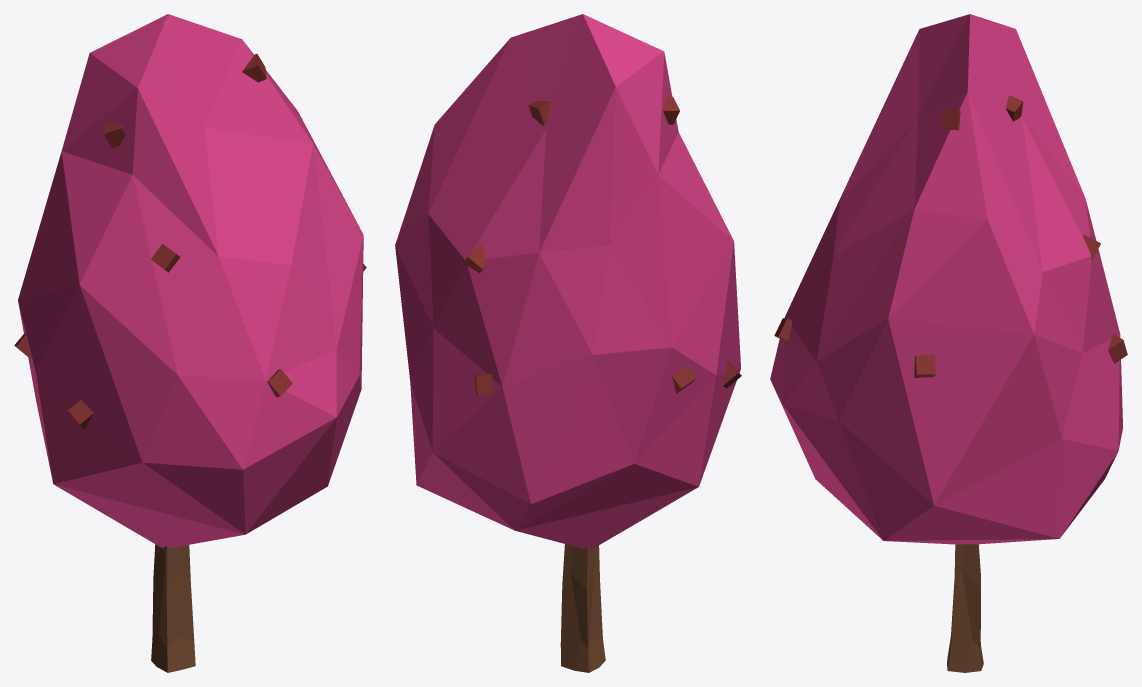
Rendered from Tree_23_Pink.fbx.
3 renders of one model, left to right at view 1: azimuth 30°, elevation 25°; view 2: azimuth 150°, elevation 25°; view 3: azimuth 270°, elevation 25°, orthographic.
Parts seen in each view (by area): view 1: Tree_23_Pink_Part_1, Tree_23_Pink_Part_2, Tree_23_Pink_Part_3; view 2: Tree_23_Pink_Part_1, Tree_23_Pink_Part_2, Tree_23_Pink_Part_3; view 3: Tree_23_Pink_Part_1, Tree_23_Pink_Part_2, Tree_23_Pink_Part_3.
Boxes of the visible parts, x1,y1,x2,y2 form: Tree_23_Pink_Part_1: (18,14,363,547); Tree_23_Pink_Part_2: (151,544,195,672); Tree_23_Pink_Part_3: (14,54,366,428); Tree_23_Pink_Part_1: (395,14,740,549); Tree_23_Pink_Part_2: (560,544,605,672); Tree_23_Pink_Part_3: (463,96,741,395); Tree_23_Pink_Part_1: (770,14,1122,544); Tree_23_Pink_Part_2: (947,544,983,672); Tree_23_Pink_Part_3: (774,95,1127,377).
Bounding box in the file's own units: 398 × 799 × 399.
